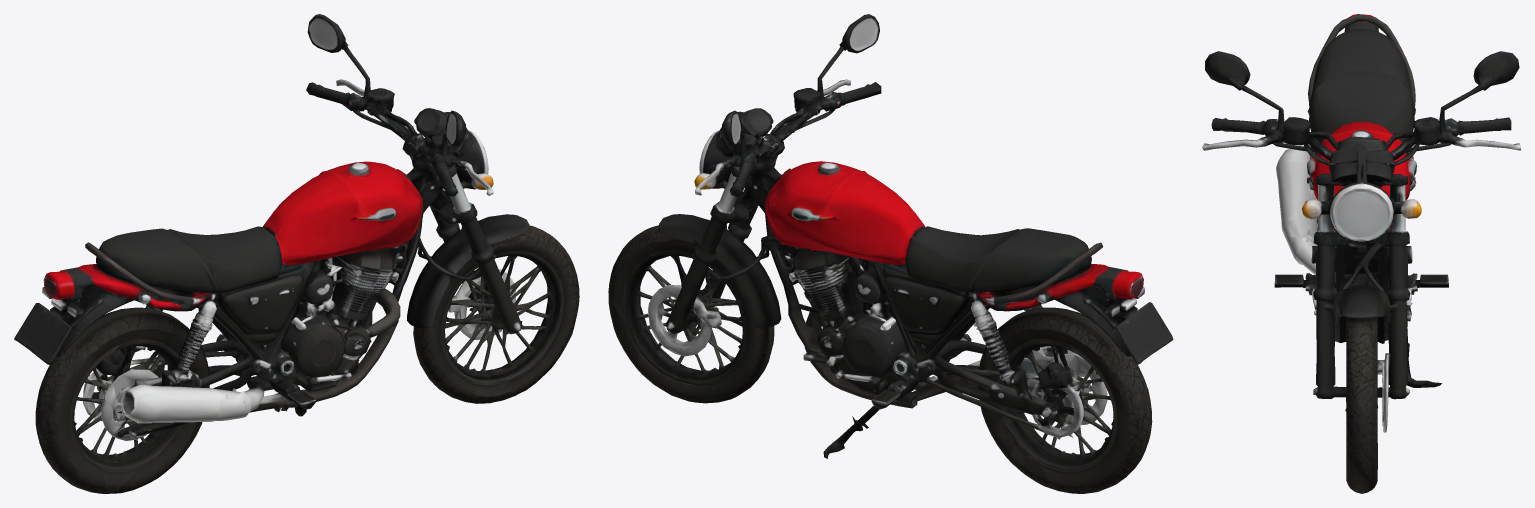
The model's file is motosiklet.glb.
3 renders of one model, left to right at view 1: azimuth 30°, elevation 25°; view 2: azimuth 150°, elevation 25°; view 3: azimuth 270°, elevation 25°, orthographic. The views are drawn at different scales.
Parts seen in each view (by area): view 1: tripo_node_2a6eb94d-ee79-46c1-94eb-ad835dd79b1c, wheel_y_1, wheel_y_0; view 2: tripo_node_2a6eb94d-ee79-46c1-94eb-ad835dd79b1c, wheel_y_0, wheel_y_1; view 3: tripo_node_2a6eb94d-ee79-46c1-94eb-ad835dd79b1c, wheel_y_1.
Part boxes in pixels (x1=…): tripo_node_2a6eb94d-ee79-46c1-94eb-ad835dd79b1c: x1=14, y1=14, x2=572, y2=451; wheel_y_1: x1=413, y1=236, x2=579, y2=403; wheel_y_0: x1=41, y1=329, x2=209, y2=493; tripo_node_2a6eb94d-ee79-46c1-94eb-ad835dd79b1c: x1=618, y1=14, x2=1173, y2=458; wheel_y_0: x1=975, y1=329, x2=1146, y2=493; wheel_y_1: x1=608, y1=235, x2=774, y2=403; tripo_node_2a6eb94d-ee79-46c1-94eb-ad835dd79b1c: x1=1202, y1=14, x2=1520, y2=432; wheel_y_1: x1=1345, y1=317, x2=1382, y2=493.
Bounding box in the file's own units: 1 × 0.6334 × 0.4825.
Materials: 1 (1 with a texture image).
